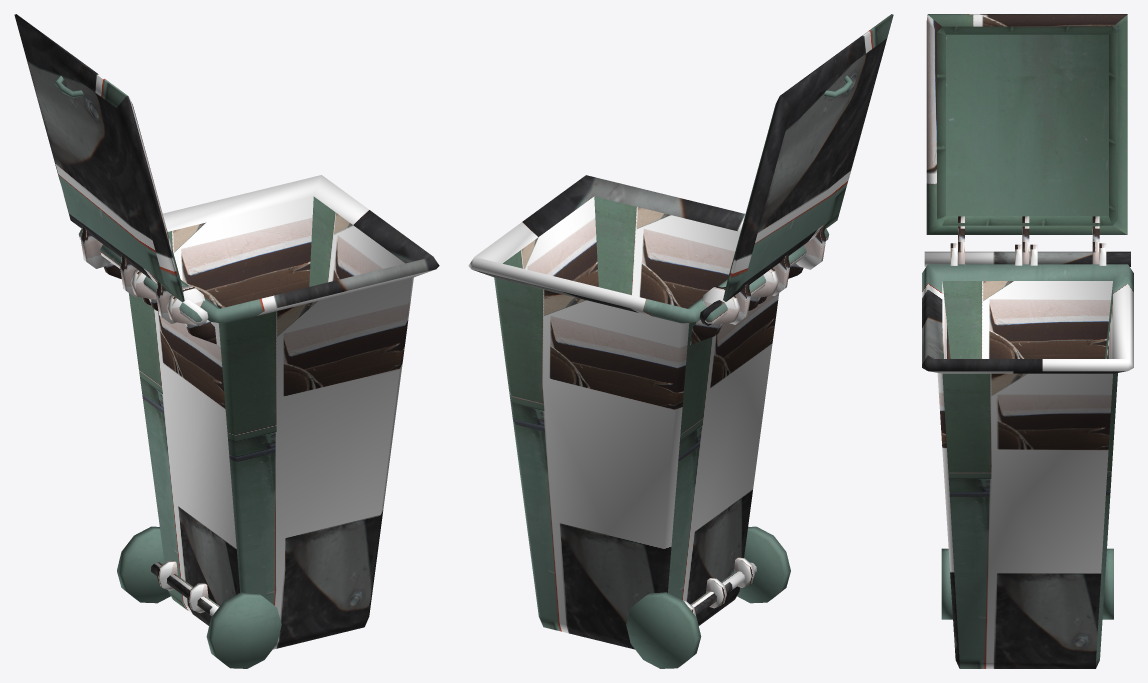
The model's file is ven_trash_green.fbx.
3 renders of one model, left to right at view 1: azimuth 30°, elevation 25°; view 2: azimuth 150°, elevation 25°; view 3: azimuth 270°, elevation 25°, orthographic. The views are drawn at different scales.
Visible parts, largest first — view 1: trashGree, trashGreenTop; view 2: trashGree, trashGreenTop; view 3: trashGree, trashGreenTop.
Part boxes in pixels (box(x1,y1,x2,y2)): trashGree: box(103, 175, 439, 668); trashGreenTop: box(14, 14, 208, 325); trashGree: box(468, 175, 803, 668); trashGreenTop: box(699, 14, 893, 325); trashGree: box(922, 243, 1133, 668); trashGreenTop: box(924, 14, 1130, 266).
Size of the model in its own units: 1.5 by 2.71 by 0.9541.
